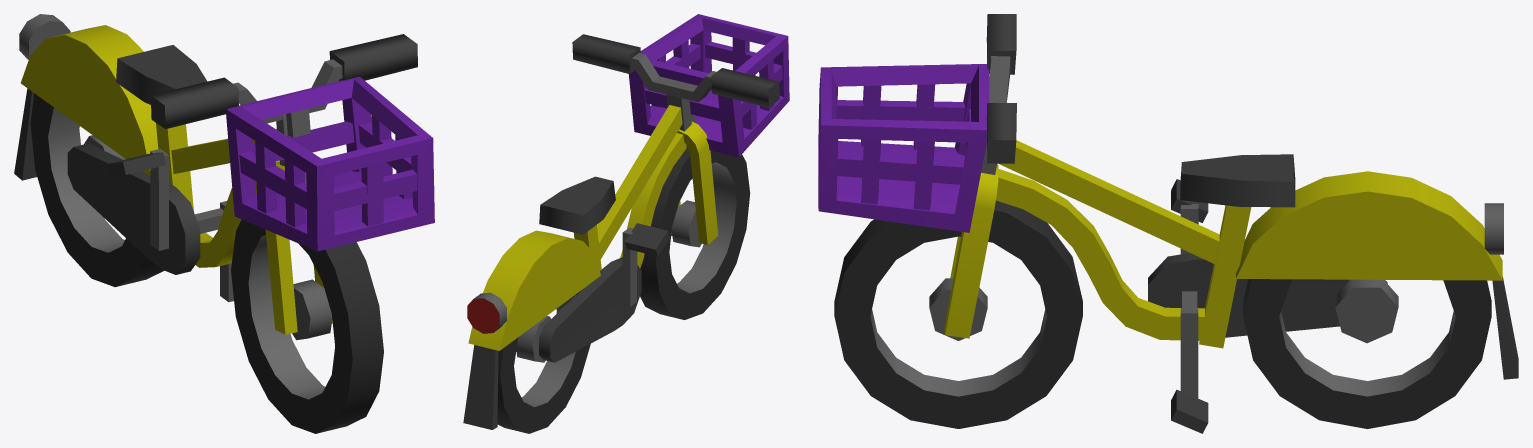
The model's file is bicycle_v2_02.fbx.
The picture shows the model from 3 angles, left to right: view 1: azimuth 30°, elevation 25°; view 2: azimuth 150°, elevation 25°; view 3: azimuth 270°, elevation 25°; orthographic projection. The views are drawn at different scales.
Parts seen in each view (by area): view 1: bicycle_v2_02; view 2: bicycle_v2_02; view 3: bicycle_v2_02.
Boxes of the visible parts, box(x1,y1,x2,y2) form: bicycle_v2_02: box(14, 14, 434, 433); bicycle_v2_02: box(463, 14, 789, 433); bicycle_v2_02: box(818, 14, 1518, 433).
Size of the model in its own units: 67.77 by 86.37 by 160.
